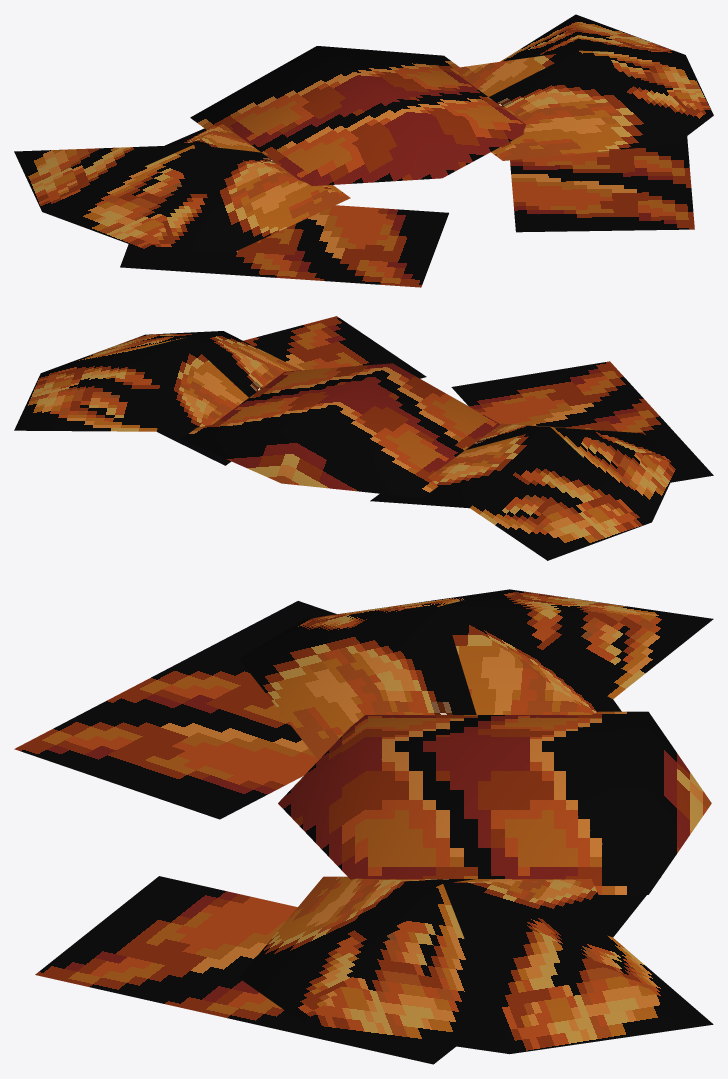
3 views of the same model, one above another, from view 1: azimuth 30°, elevation 25°; view 2: azimuth 150°, elevation 25°; view 3: azimuth 270°, elevation 25° (orthographic). The views are drawn at different scales.
Parts seen in each view (by area): view 1: 4860fish70d; view 2: 4860fish70d; view 3: 4860fish70d.
Boxes of the visible parts, left/top/right/bottom form: 4860fish70d: left=14, top=14, right=713, bottom=287; 4860fish70d: left=14, top=316, right=713, bottom=560; 4860fish70d: left=14, top=589, right=713, bottom=1064.
Bounding box in the file's own units: 1.03 × 0.1125 × 0.6558.
Materials: 1 (1 with a texture image).
